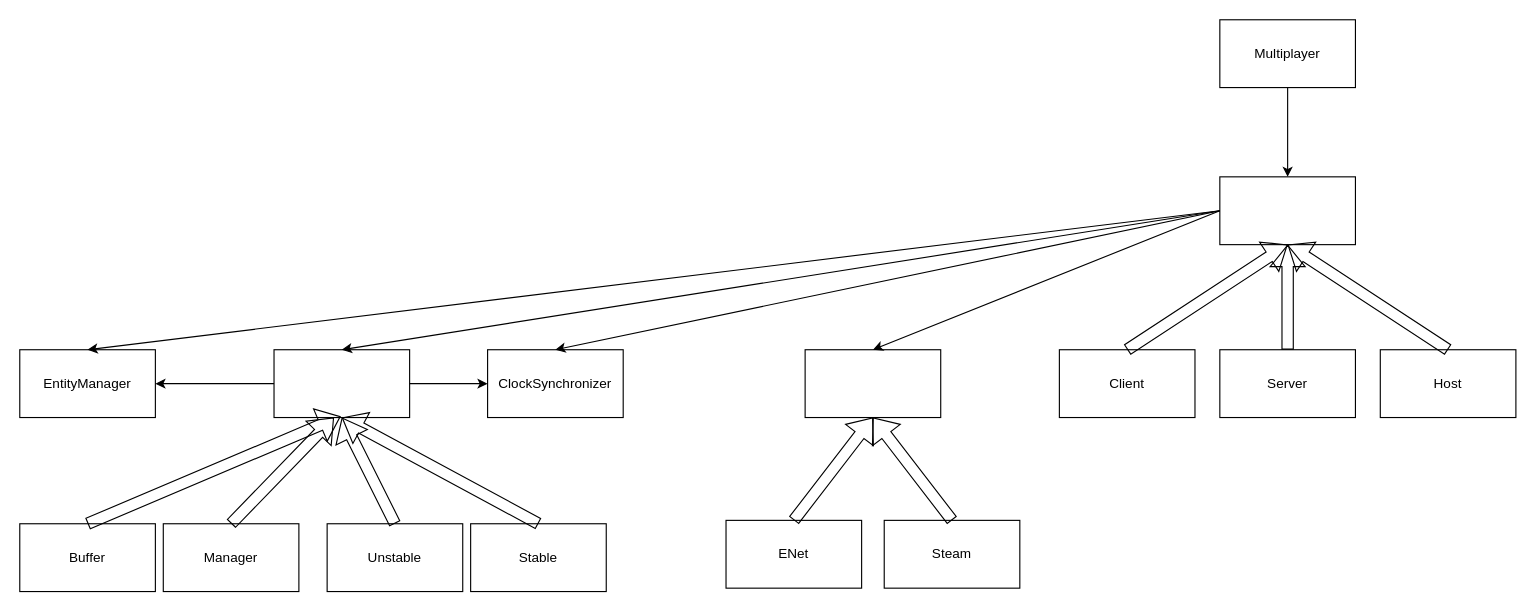
The diagram is 1536 pixels wide and 611 high, and some of its shapes have lost their labels. The shapes that lost their labels are listed below. From the top down, each one's centre as x and y in pixels, then its label:
pixel 1287 210: ConnectionStrategy
pixel 341 383: WorldStateManager
pixel 872 383: Network
